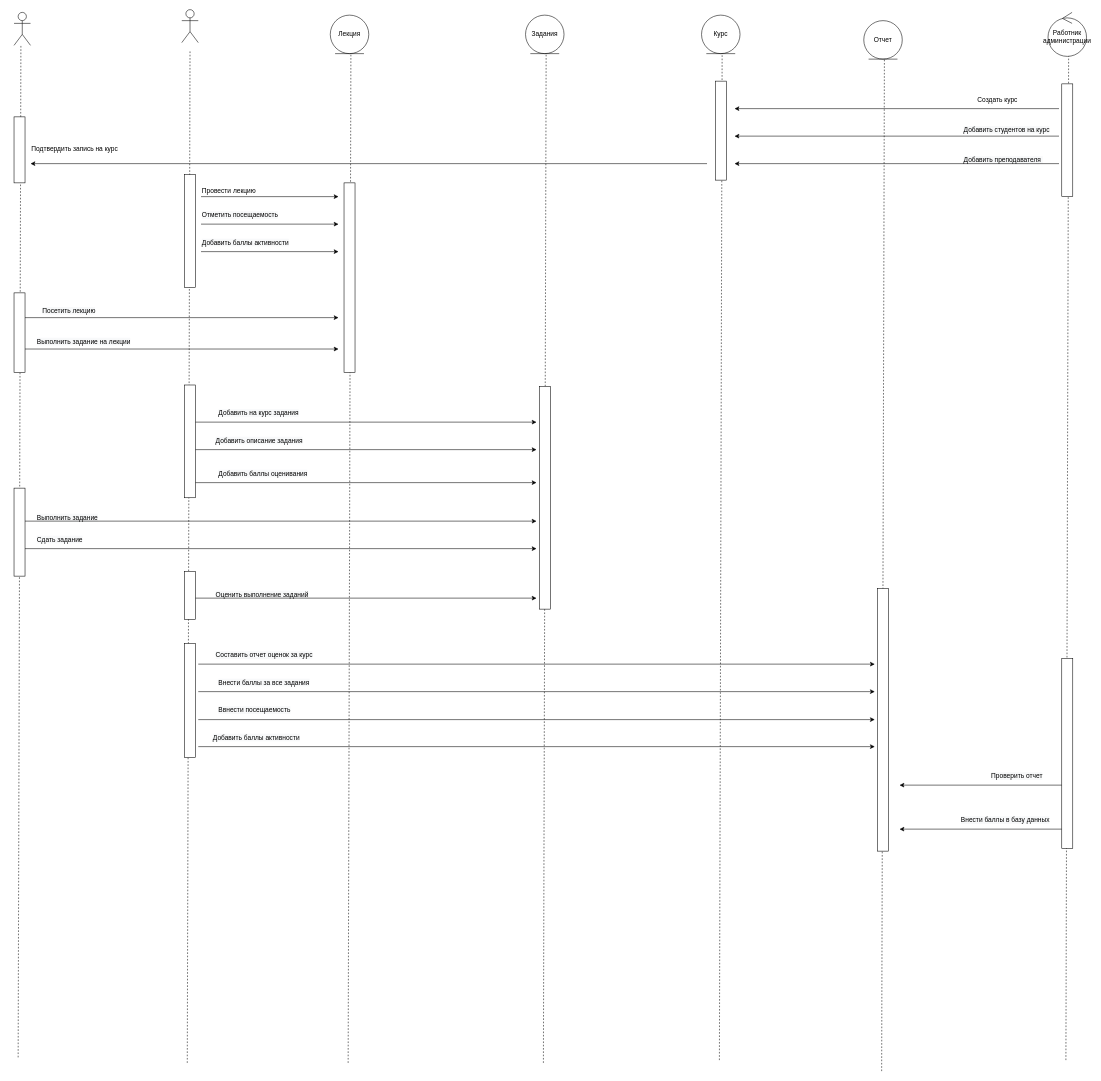
The diagram is 1101 pixels wide and 1081 high, and some of its shapes have lost their labels. Each missing label, with the box of its shape:
Преподаватель: (181, 9, 198, 43)
Студент: (13, 12, 31, 45)
